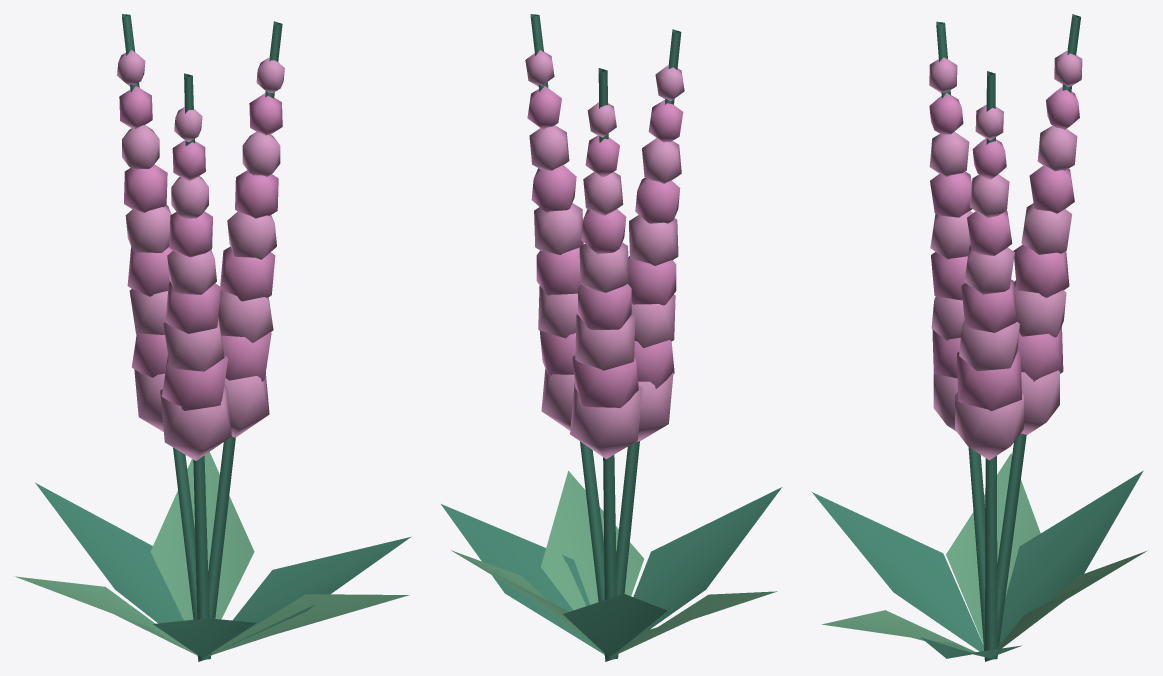
File: lupin.glb
3 renders of one model, left to right at view 1: azimuth 30°, elevation 25°; view 2: azimuth 150°, elevation 25°; view 3: azimuth 270°, elevation 25°, orthographic.
Parts seen in each view (by area): view 1: lupin; view 2: lupin; view 3: lupin.
Part boxes in pixels (<box>): lupin: <box>14,14,411,661</box>; lupin: <box>441,14,781,661</box>; lupin: <box>812,14,1146,661</box>.
Size of what is drawn, in the model's own units: 0.6157 by 1 by 0.4877.
